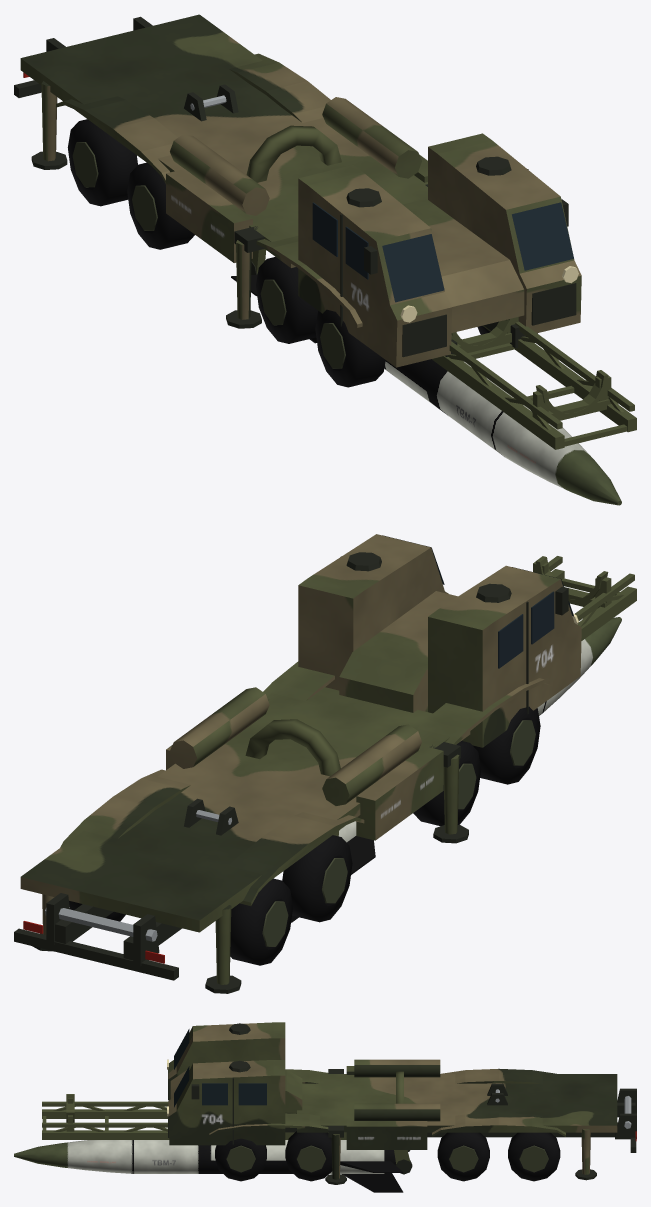
Rendered from ACO_TEL.fbx.
The picture shows the model from 3 angles, top to bottom: view 1: azimuth 30°, elevation 25°; view 2: azimuth 150°, elevation 25°; view 3: azimuth 270°, elevation 25°; orthographic projection. The views are drawn at different scales.
Parts seen in each view (by area): view 1: TEL_Chassis, TEL_Erector, TEL_Missile; view 2: TEL_Chassis, TEL_Erector, TEL_Missile; view 3: TEL_Chassis, TEL_Missile, TEL_Erector.
Boxes of the visible parts, x1,y1,x2,y2 form: TEL_Chassis: (14, 14, 581, 387); TEL_Erector: (246, 125, 636, 449); TEL_Missile: (231, 274, 621, 505); TEL_Chassis: (14, 534, 581, 993); TEL_Erector: (245, 556, 636, 836); TEL_Missile: (291, 617, 621, 922); TEL_Chassis: (167, 1022, 636, 1184); TEL_Missile: (14, 1140, 403, 1192); TEL_Erector: (42, 1071, 412, 1174).
Bounding box in the file's own units: 6.28 × 6.19 × 23.92.
Materials: 1 (1 with a texture image).
